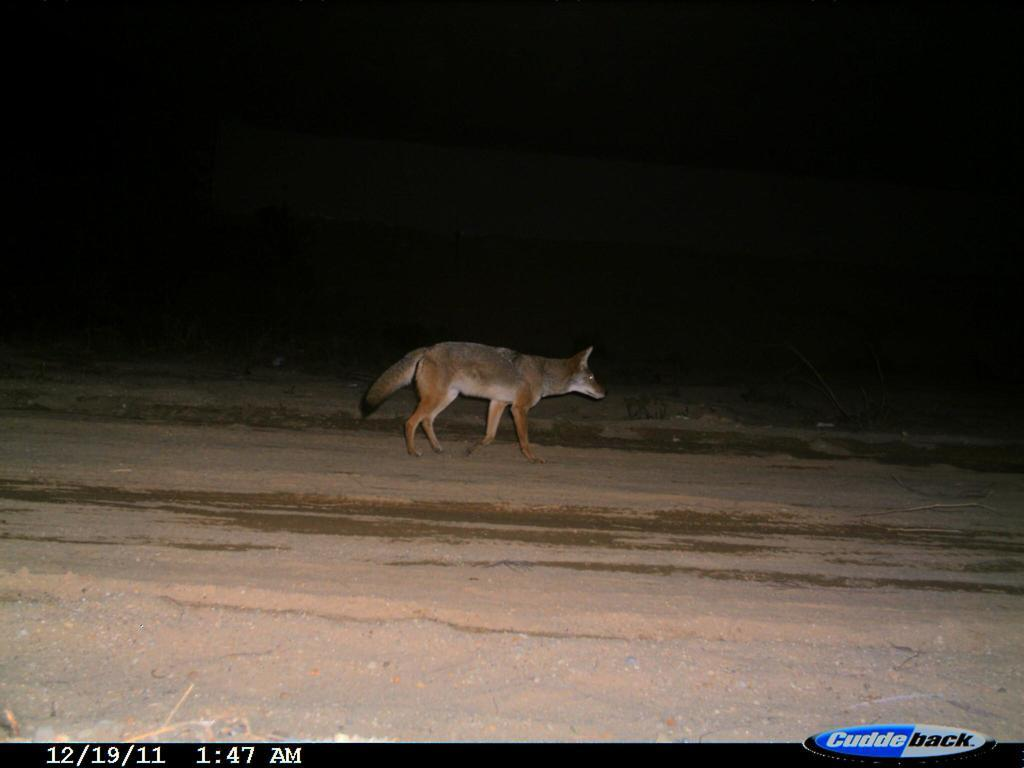coyote: (351, 336, 624, 477)
